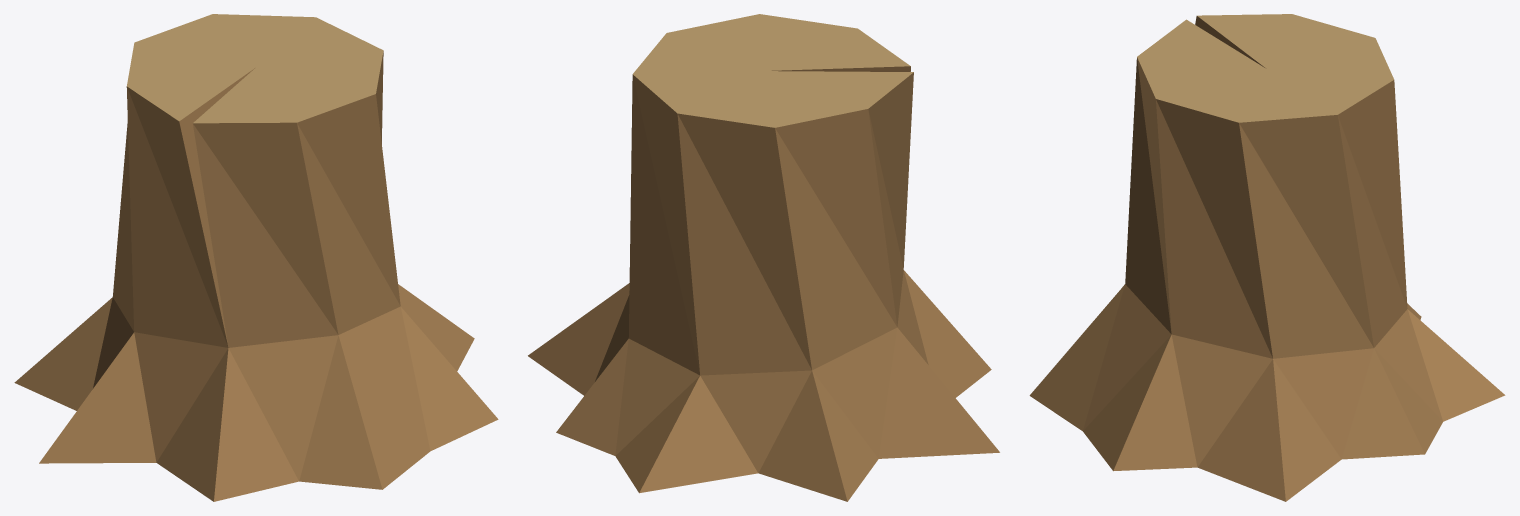
File: log_01.fbx
The picture shows the model from 3 angles, left to right: view 1: azimuth 30°, elevation 25°; view 2: azimuth 150°, elevation 25°; view 3: azimuth 270°, elevation 25°; orthographic projection. The views are drawn at different scales.
Parts seen in each view (by area): view 1: log_01; view 2: log_01; view 3: log_01.
Boxes of the visible parts, x1,y1,x2,y2 form: log_01: (14, 14, 498, 501); log_01: (528, 14, 999, 501); log_01: (1029, 14, 1505, 501).
Bounding box in the file's own units: 105 × 73.49 × 97.71.
